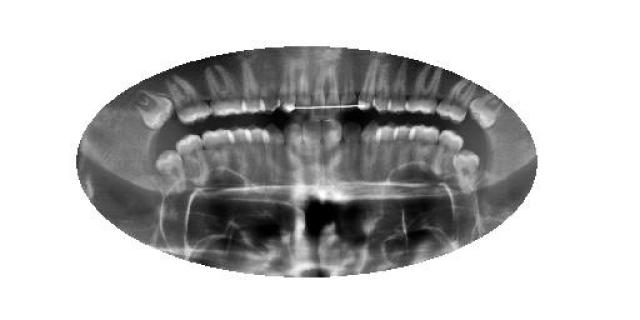Restorations: (134, 91, 174, 130), (451, 148, 481, 196), (466, 94, 504, 128)
